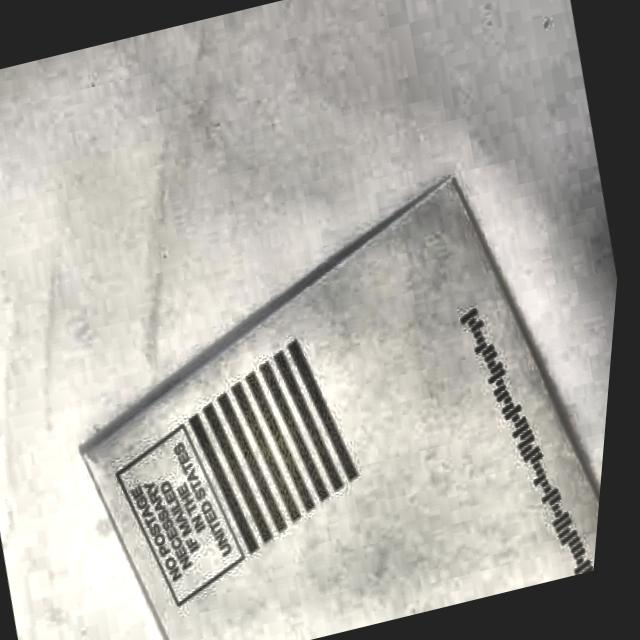Paper: (19, 131, 632, 640)
